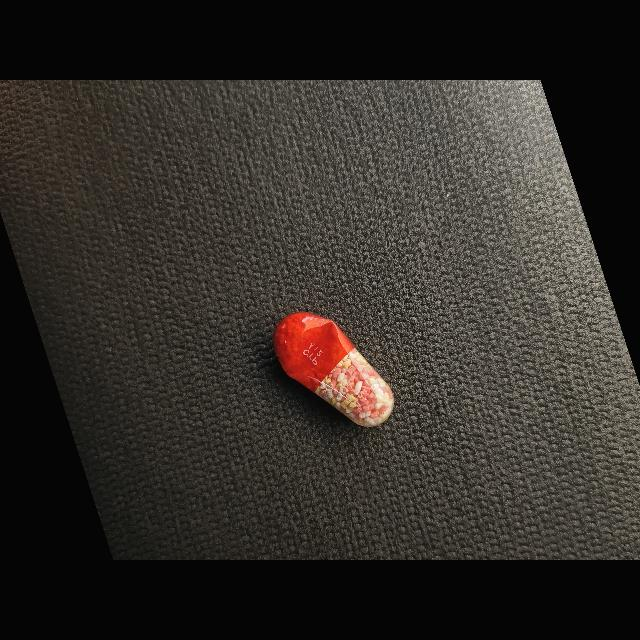Defective Capsule: (274, 312, 394, 427)
